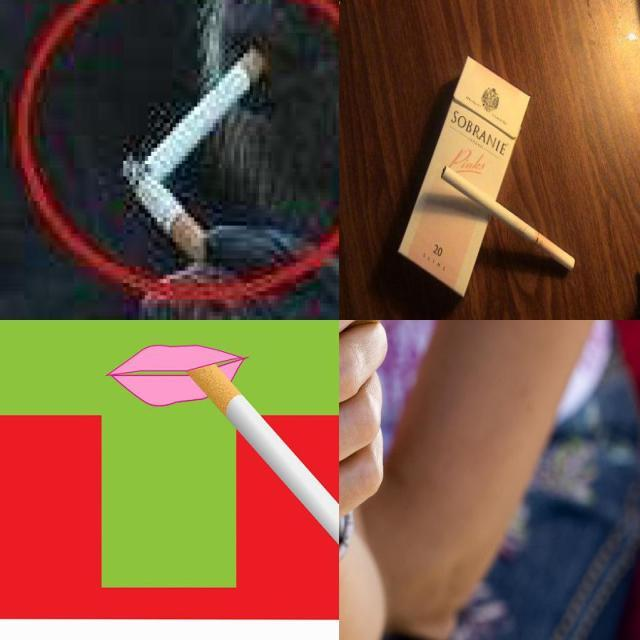smoking: (188, 362, 338, 560), (141, 43, 273, 183), (440, 166, 576, 272), (121, 153, 211, 263), (340, 320, 464, 336)
